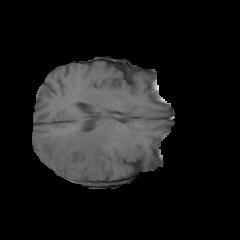glioma: (40, 130, 121, 180)
